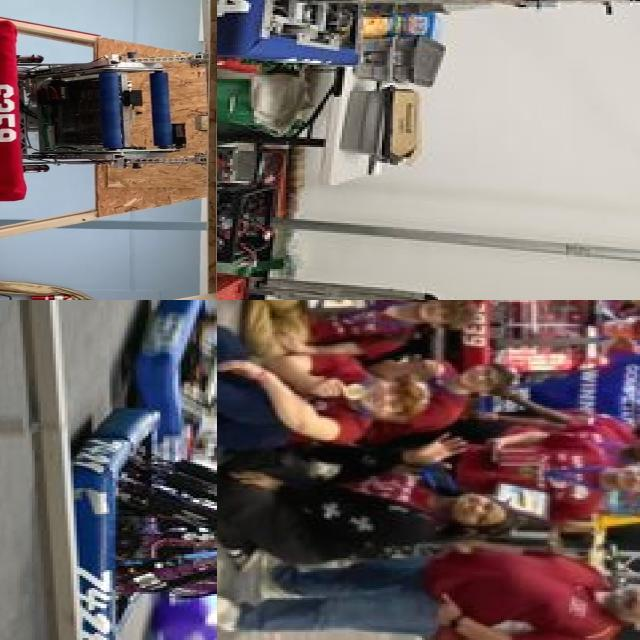FRC-Robots: (0, 0, 201, 243), (58, 408, 217, 640), (217, 0, 640, 87), (448, 300, 618, 407), (129, 300, 165, 324)
